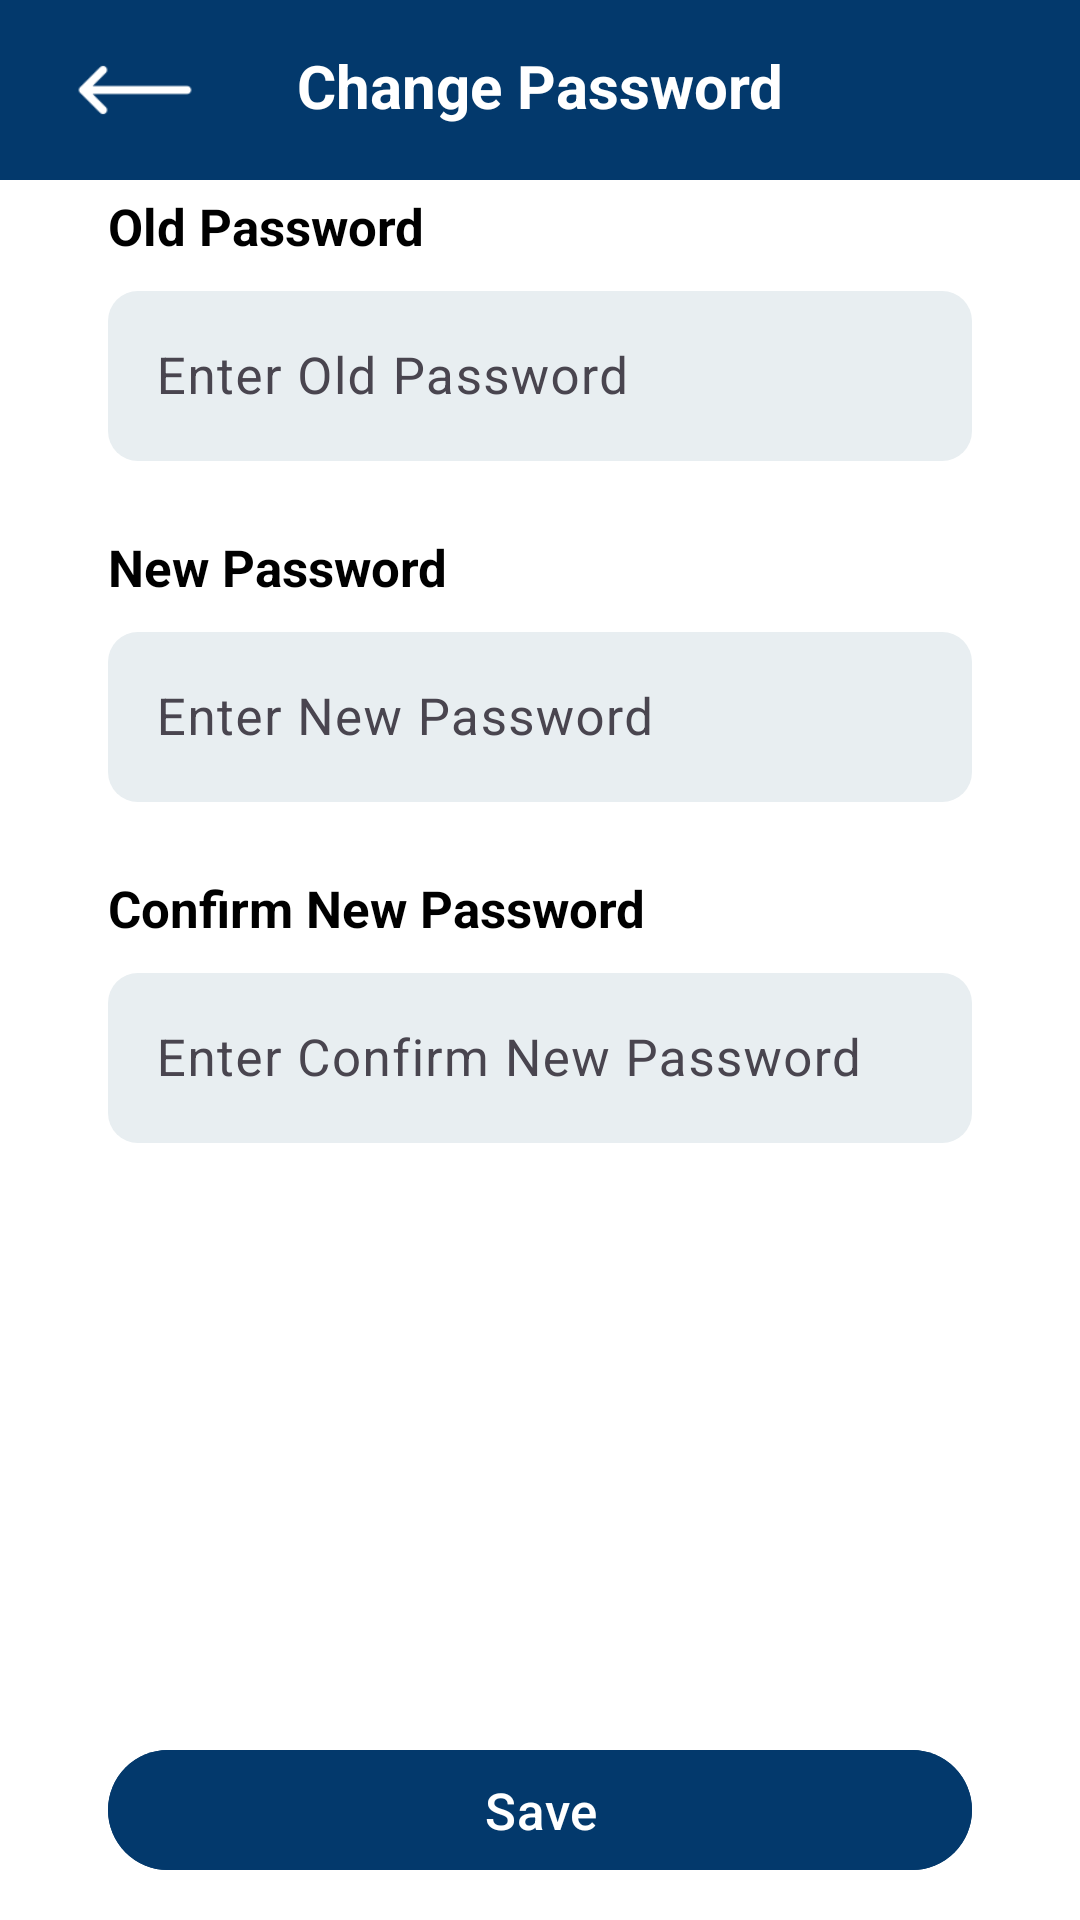

Point at icon controls on the screen. Image size 1080*1920, points as [x,y].
back arrow: [135,90]
